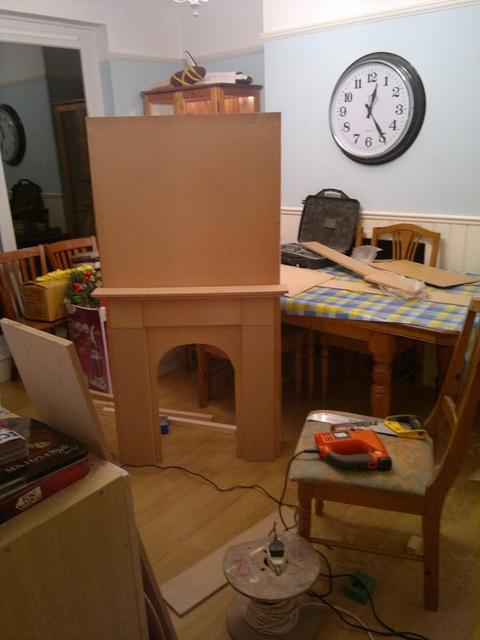tomato: (304, 420, 391, 471), (306, 412, 428, 438)
